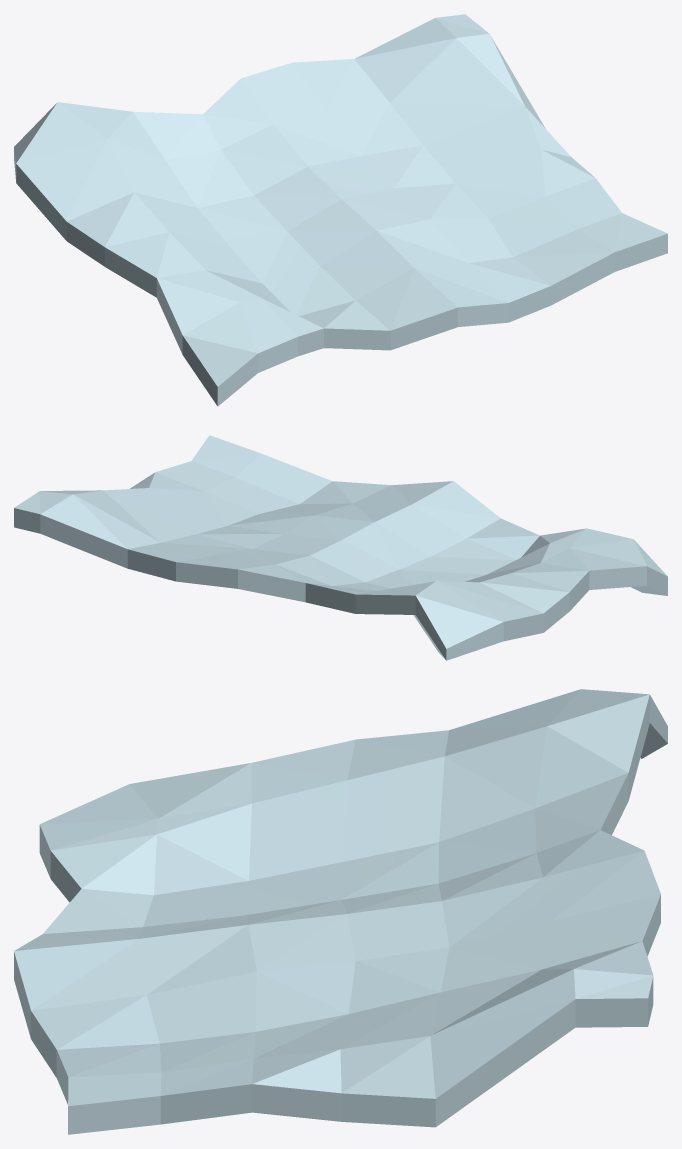
The model's file is SM_Bld_Market_Snow_01.gltf.
3 renders of one model, top to bottom at view 1: azimuth 30°, elevation 25°; view 2: azimuth 150°, elevation 25°; view 3: azimuth 270°, elevation 25°, orthographic. The views are drawn at different scales.
Parts seen in each view (by area): view 1: SM_Bld_Market_Snow_01; view 2: SM_Bld_Market_Snow_01; view 3: SM_Bld_Market_Snow_01.
Boxes of the visible parts, box(x1,y1,x2,y2) form: SM_Bld_Market_Snow_01: box(14, 14, 667, 406); SM_Bld_Market_Snow_01: box(14, 435, 667, 660); SM_Bld_Market_Snow_01: box(14, 689, 667, 1134).
Bounding box in the file's own units: 3.59 × 1 × 2.92.
1 material, 1 textured.
